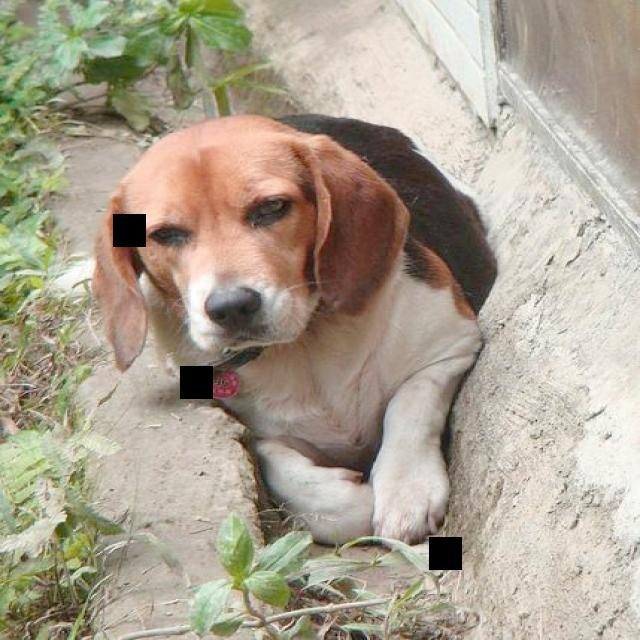adult_dog: (90, 114, 508, 548)
